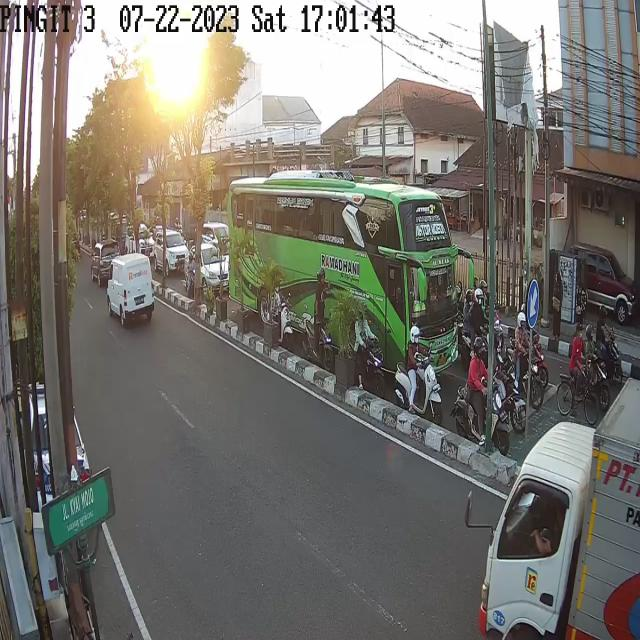bus: (227, 175, 463, 372)
car: (574, 244, 637, 327), (108, 255, 155, 326), (186, 244, 230, 296), (154, 232, 190, 277), (92, 240, 120, 286), (204, 221, 232, 255)
motorcycle: (457, 347, 509, 465), (396, 321, 438, 436), (348, 304, 382, 408), (304, 272, 333, 376), (509, 316, 542, 406), (270, 264, 296, 359)
truck: (474, 359, 639, 639)
